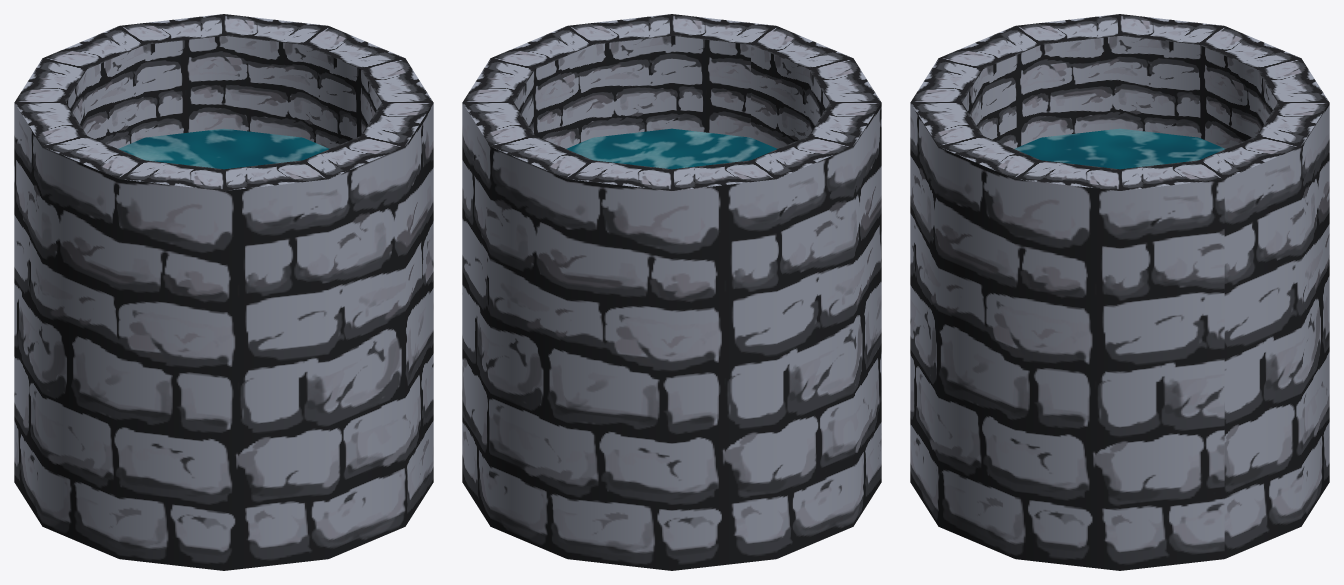
Rendered from Hole_sky.fbx.
3 views of the same model, side by side, from view 1: azimuth 30°, elevation 25°; view 2: azimuth 150°, elevation 25°; view 3: azimuth 270°, elevation 25° (orthographic).
Parts seen in each view (by area): view 1: pCylinder1; view 2: pCylinder1; view 3: pCylinder1.
Part boxes in pixels (x1=…): pCylinder1: x1=14, y1=14, x2=433, y2=570; pCylinder1: x1=462, y1=14, x2=881, y2=570; pCylinder1: x1=910, y1=14, x2=1329, y2=570.
Bounding box in the file's own units: 2 × 2 × 2.
